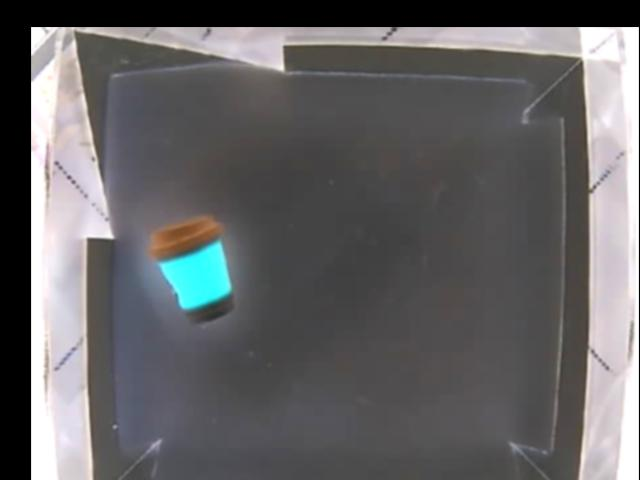Cup: (150, 215, 236, 324)
